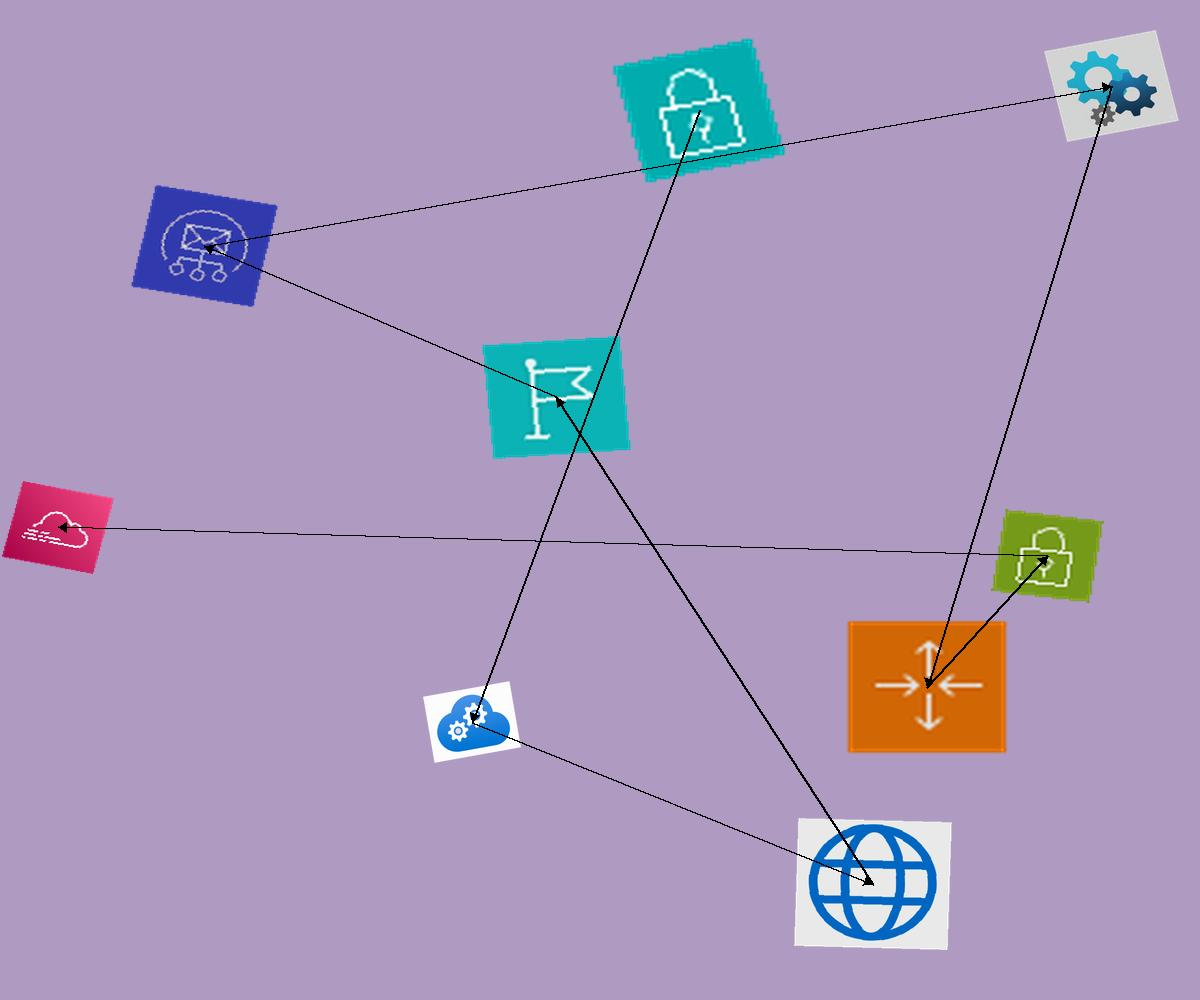AWS-CloudTrail: (2, 481, 114, 574)
AWS-Private-subnet: (610, 36, 788, 185)
AWS-Public-subnet: (991, 509, 1104, 603)
AWS-Region: (481, 335, 632, 460)
AWS-Scaling-group: (844, 618, 1010, 756)
AWS-Simple-Email-Service: (130, 184, 279, 308)
Azure_api: (1044, 30, 1179, 142)
Azure_cloud_services: (423, 681, 521, 763)
Azure_http: (794, 818, 952, 950)
